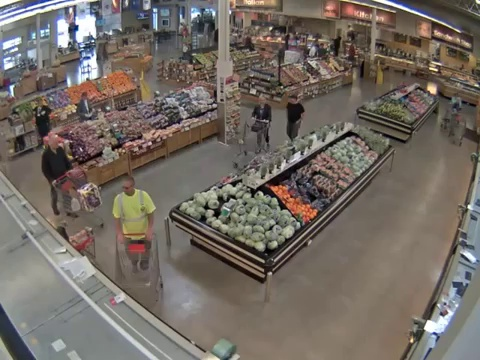face: (122, 180, 133, 195), (50, 138, 61, 149), (258, 95, 267, 105), (288, 96, 295, 105)
